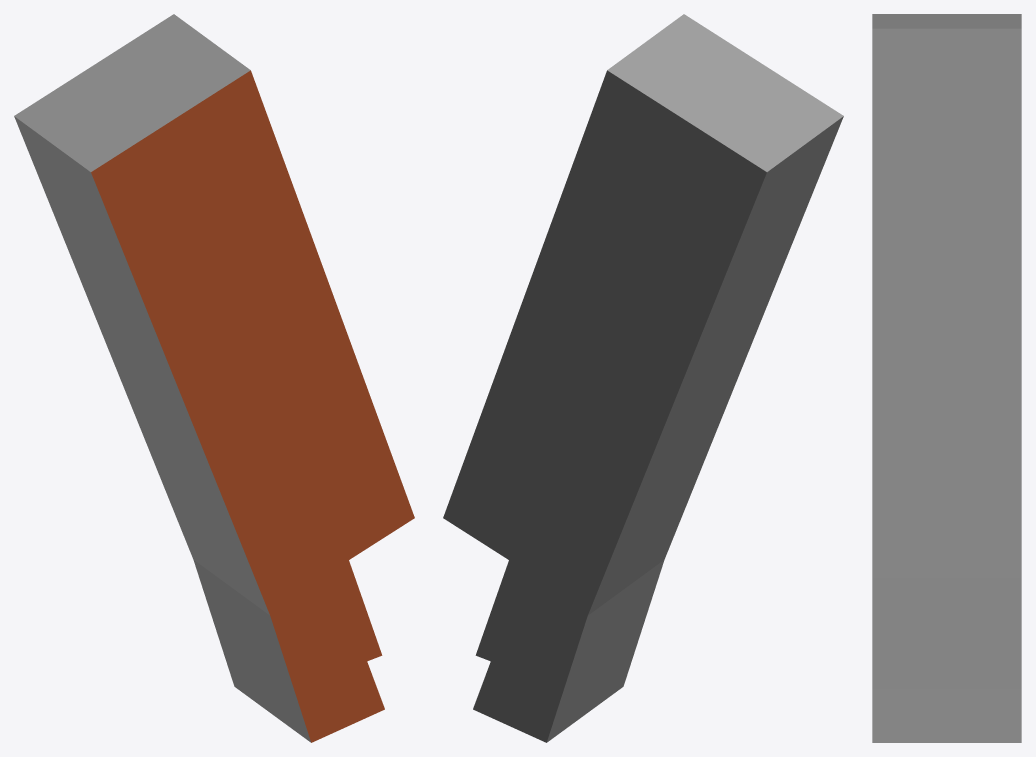
Rendered from construction_5423_assumed_A_Casa_h6m.obj.
3 renders of one model, left to right at view 1: azimuth 30°, elevation 25°; view 2: azimuth 150°, elevation 25°; view 3: azimuth 270°, elevation 25°, orthographic. The views are drawn at different scales.
Parts seen in each view (by area): view 1: construction_5423_assumed_A_Casa; view 2: construction_5423_assumed_A_Casa; view 3: construction_5423_assumed_A_Casa.
Part boxes in pixels (x1=…): construction_5423_assumed_A_Casa: x1=14, y1=14, x2=414, y2=742; construction_5423_assumed_A_Casa: x1=443, y1=14, x2=843, y2=742; construction_5423_assumed_A_Casa: x1=872, y1=14, x2=1021, y2=742.
Size of the model in its own units: 14.6 by 29.59 by 6.
